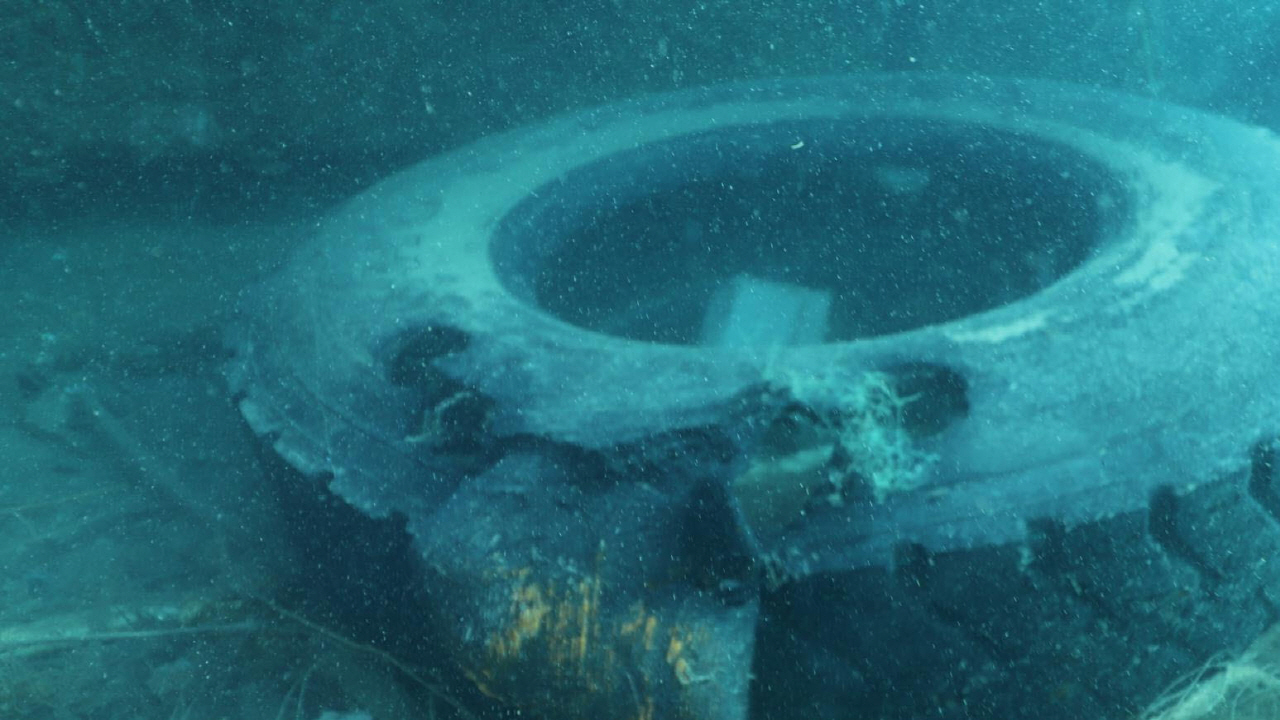tire: (226, 68, 1280, 720)
